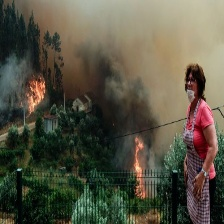fire: (129, 137, 150, 197), (26, 75, 49, 112)
smoke: (56, 2, 222, 139), (1, 56, 27, 103)
